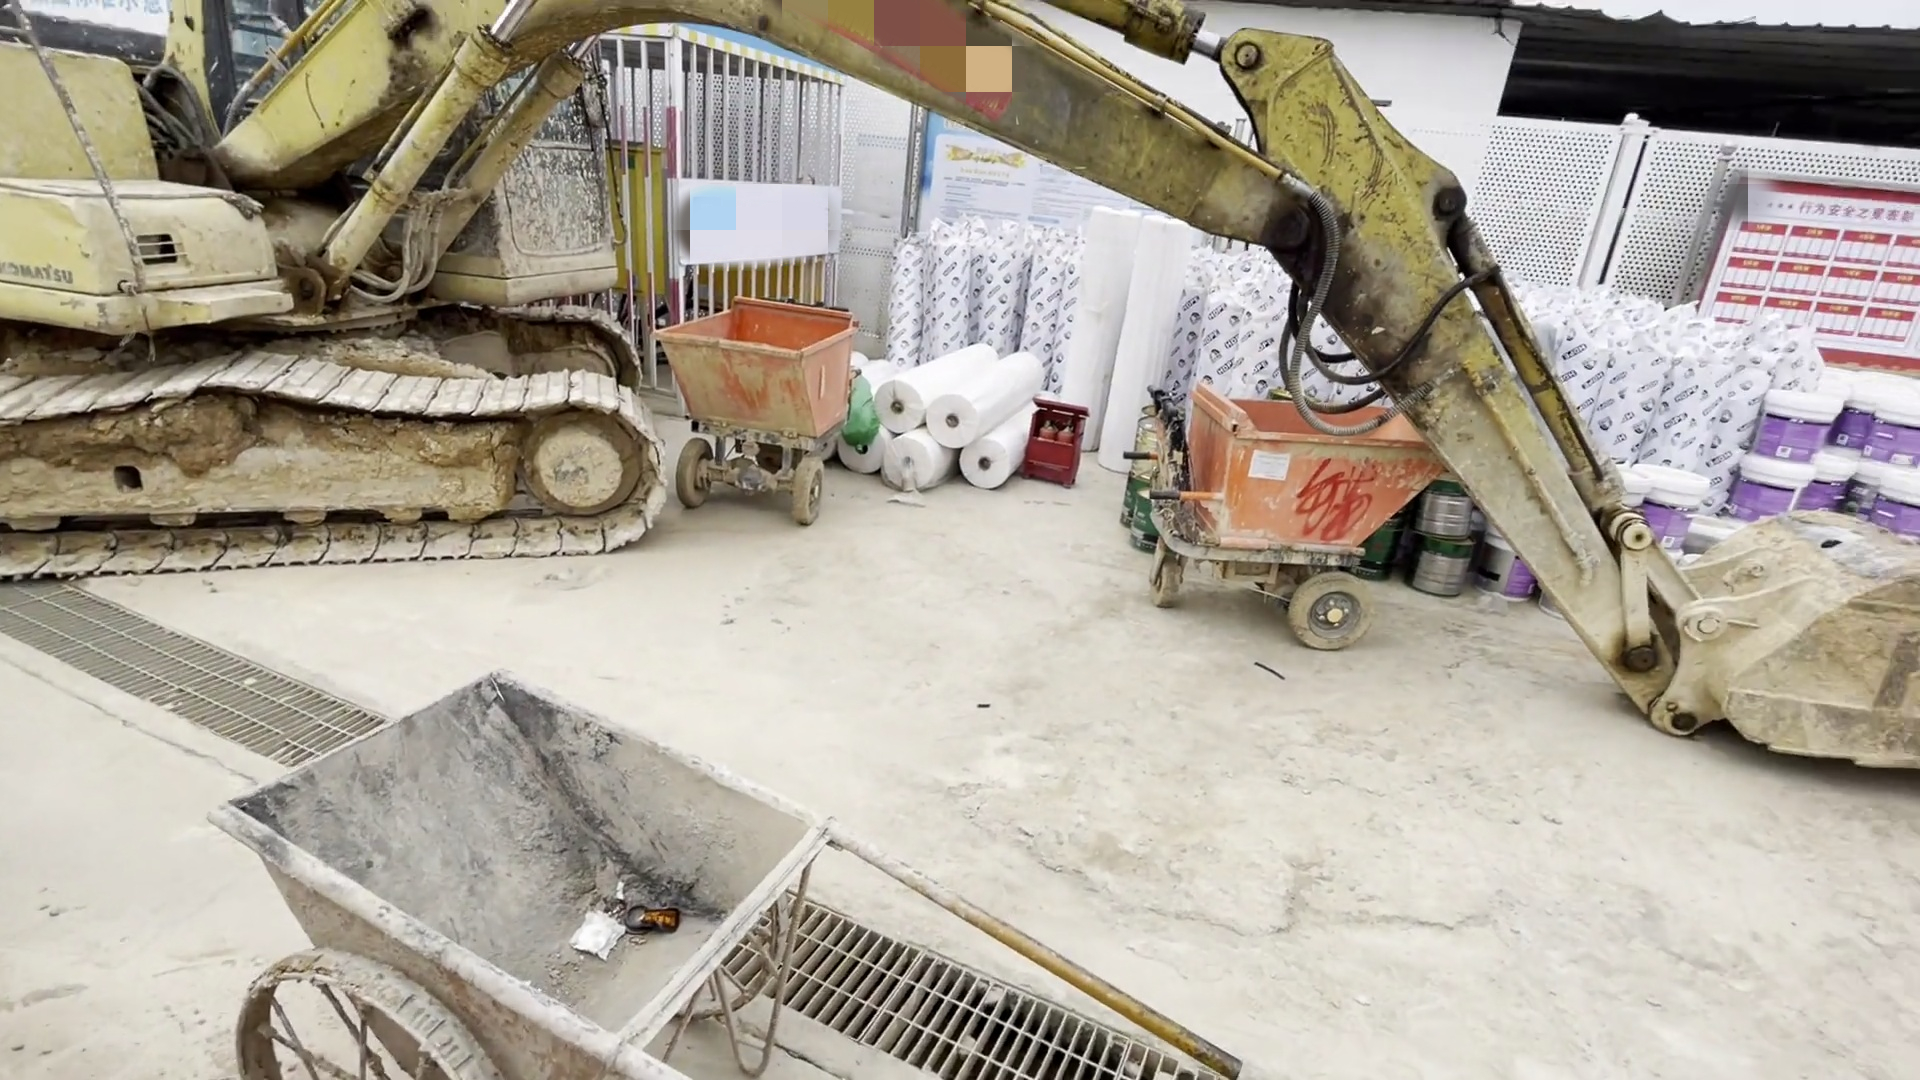handcart: (199, 655, 1250, 1080)
hopper: (1147, 388, 1466, 669), (654, 294, 858, 538)
